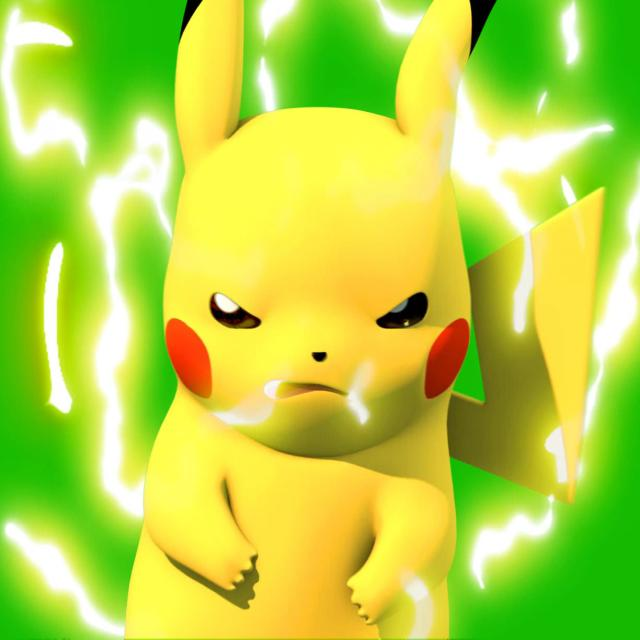Pikachu: (119, 96, 476, 640)
